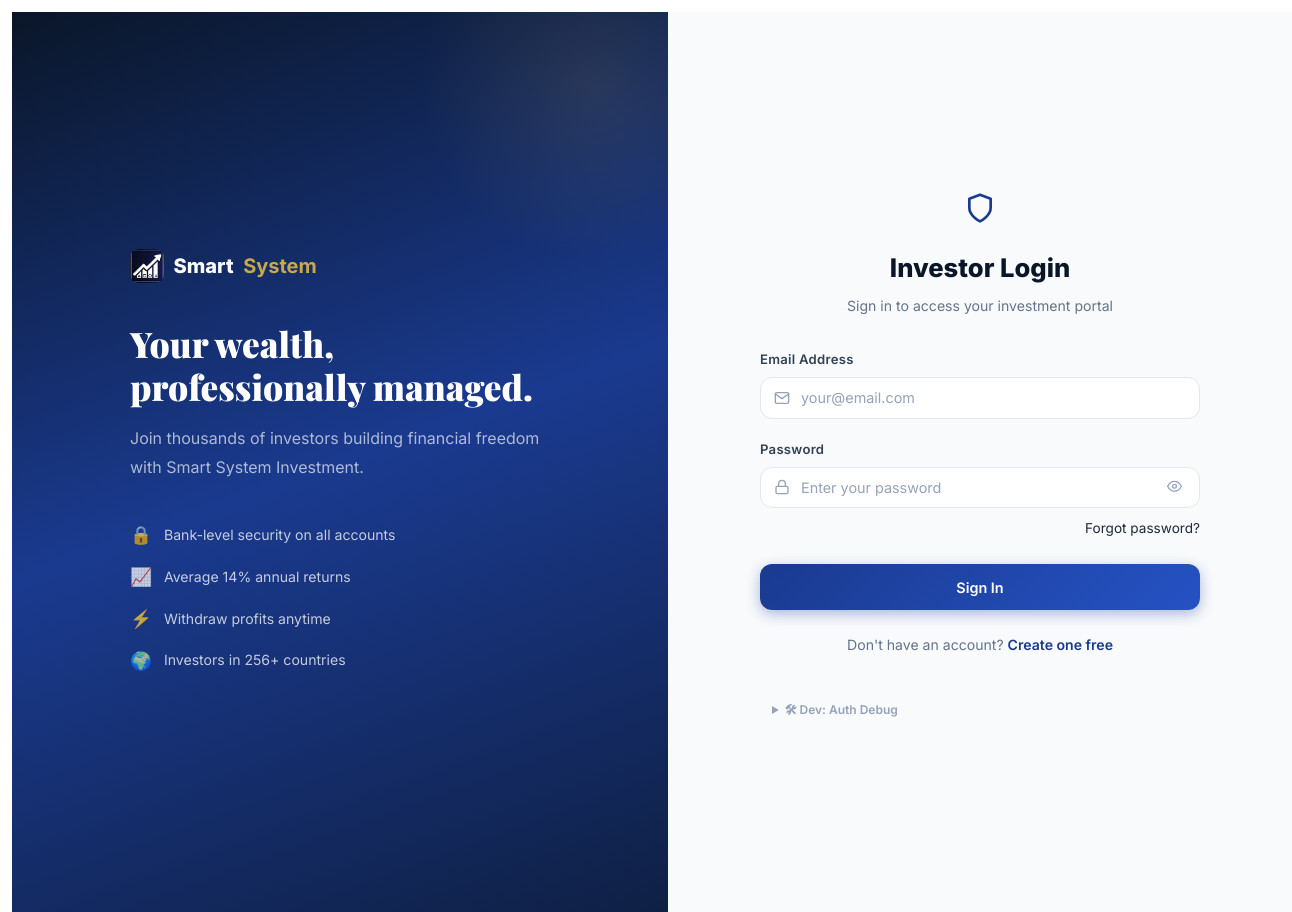
Test case: LoginPage — where each role goes after a successful login › admin → ADMIN DASHBOARD
Type "someone@ssi-dev.test" into the field with placeholder "your@email.com" at (980, 398), box [760, 377, 1200, 419]
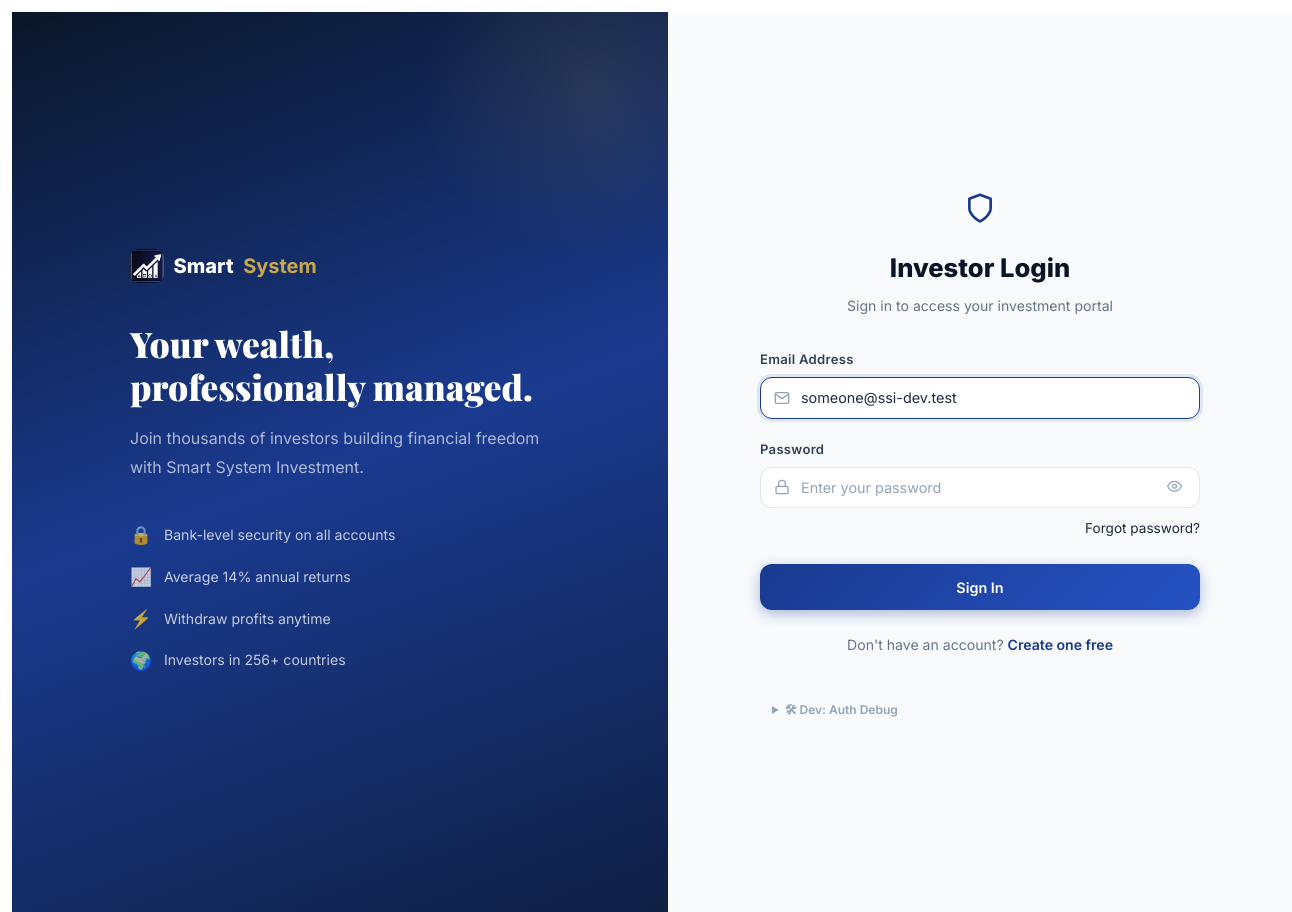
Type "not-a-real-password" into the password field with placeholder "Enter your password" at (980, 488), box [760, 467, 1200, 508]
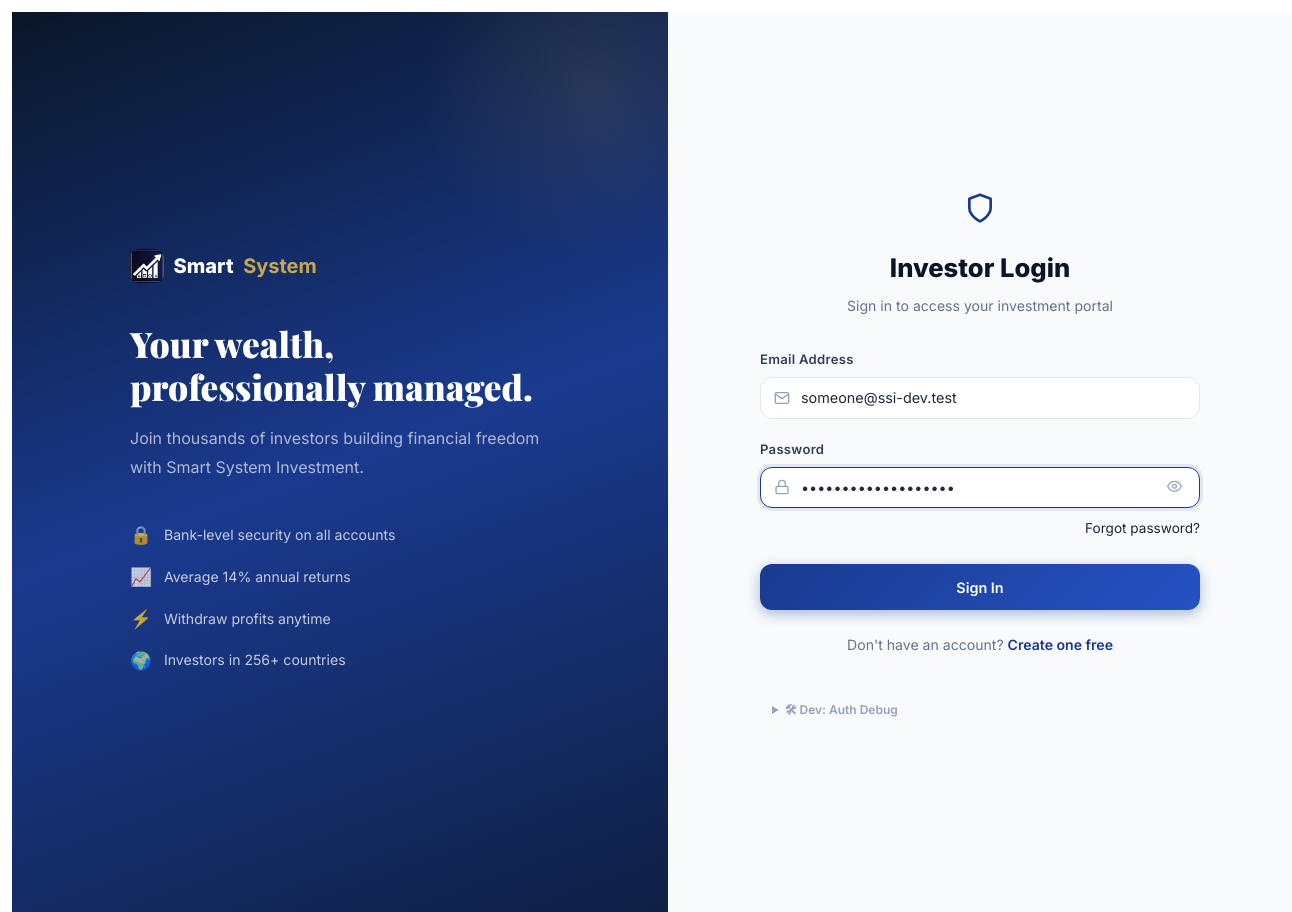
Click the button "Sign In" at (980, 587), box [760, 564, 1200, 610]
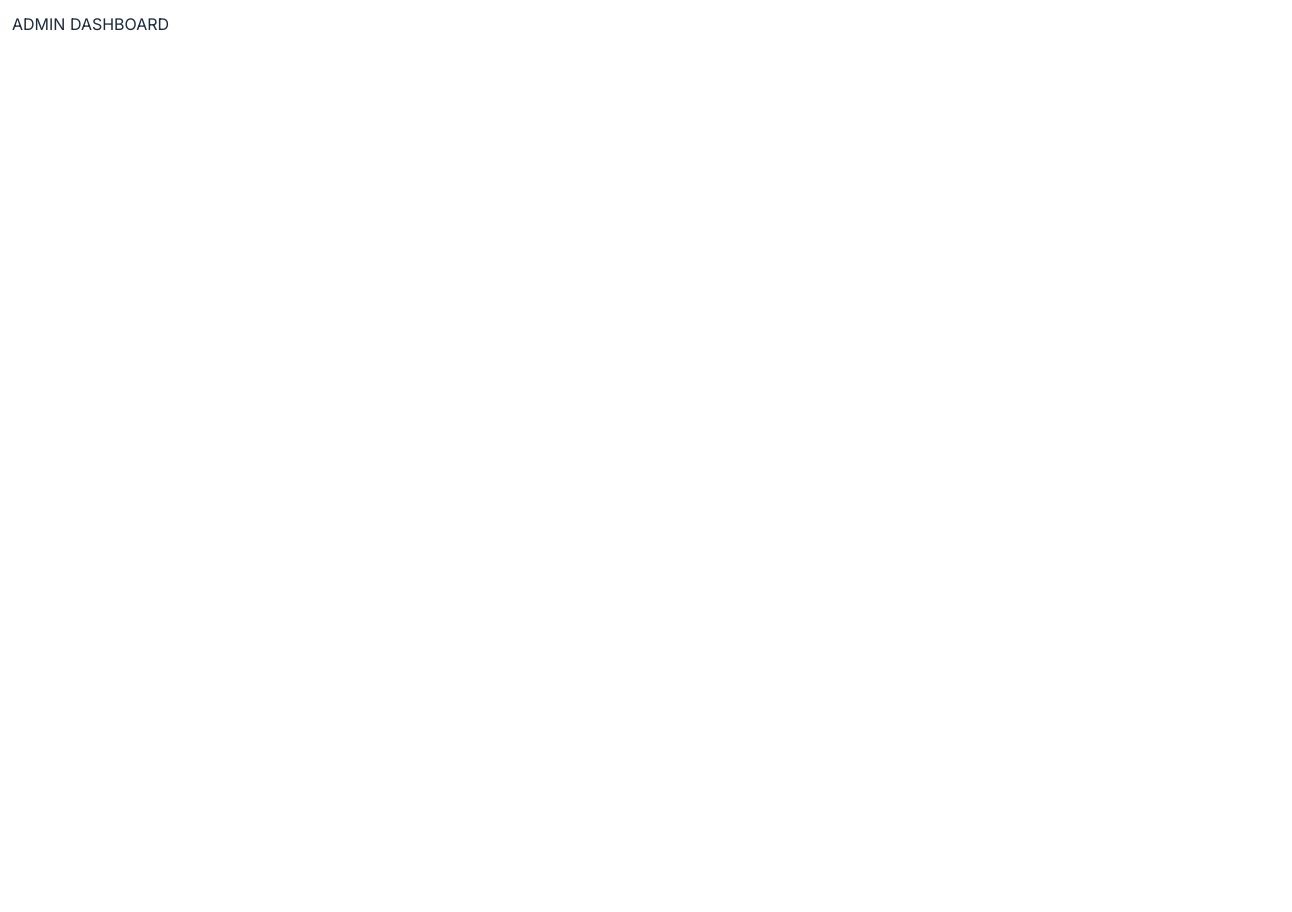
Result: the text "ADMIN DASHBOARD" is shown at [12, 14, 169, 34]
